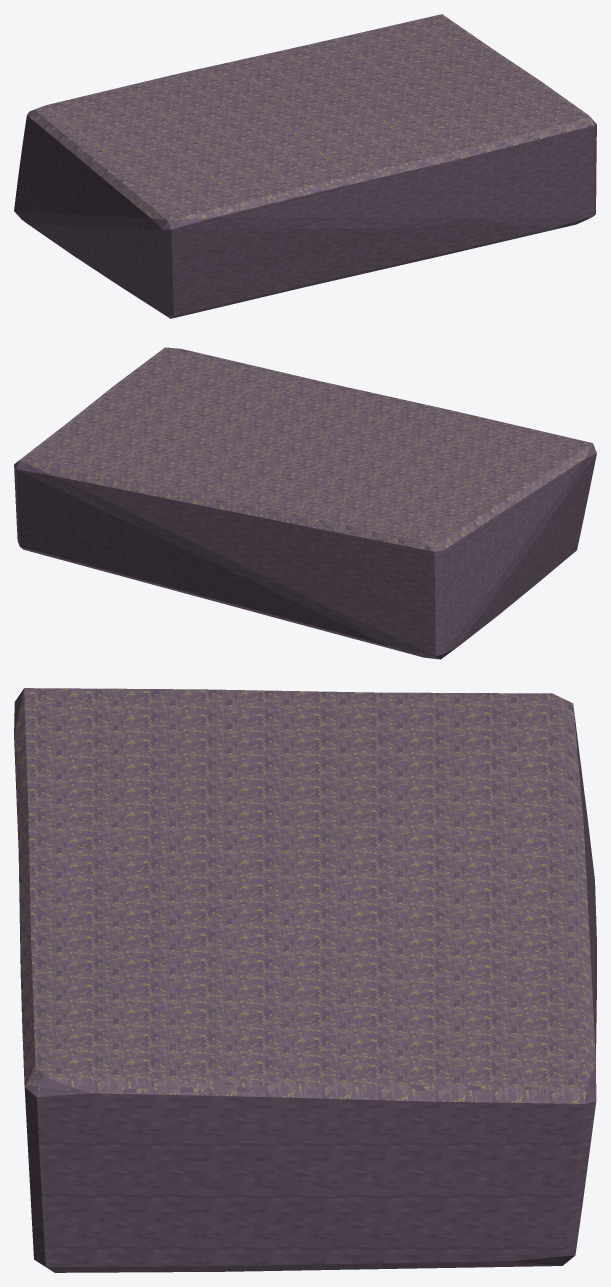
Rendered from Roof_slab_A.fbx.
3 renders of one model, top to bottom at view 1: azimuth 30°, elevation 25°; view 2: azimuth 150°, elevation 25°; view 3: azimuth 270°, elevation 25°, orthographic. The views are drawn at different scales.
Parts seen in each view (by area): view 1: RoofA; view 2: RoofA; view 3: RoofA.
Part boxes in pixels (left/top/right/bottom): RoofA: left=14, top=14, right=596, bottom=318; RoofA: left=14, top=347, right=596, bottom=659; RoofA: left=14, top=688, right=596, bottom=1272.
Bounding box in the file's own units: 4.1 × 1.01 × 2.56.
